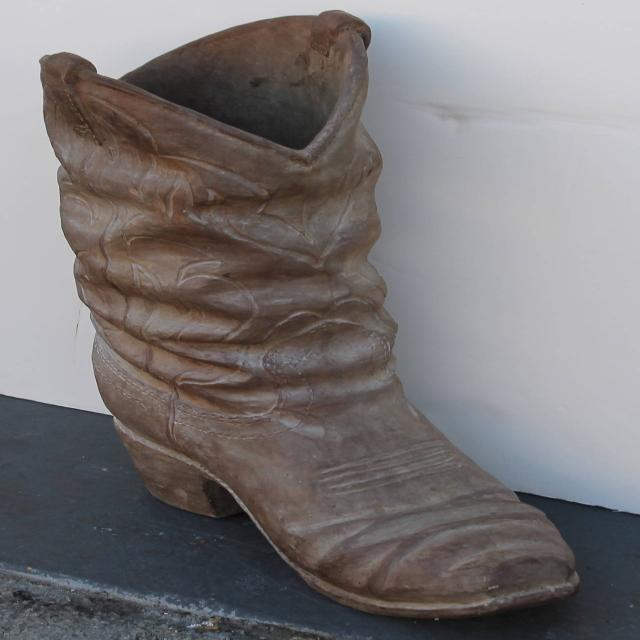boot: (23, 9, 607, 624)
